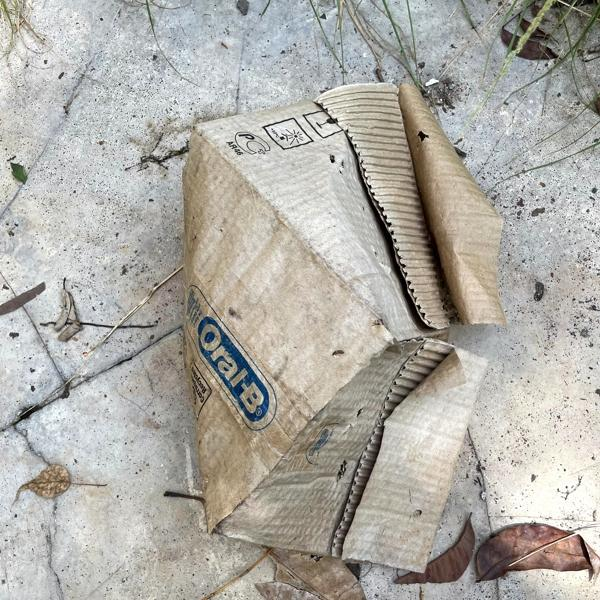Organik: (163, 76, 474, 579)
